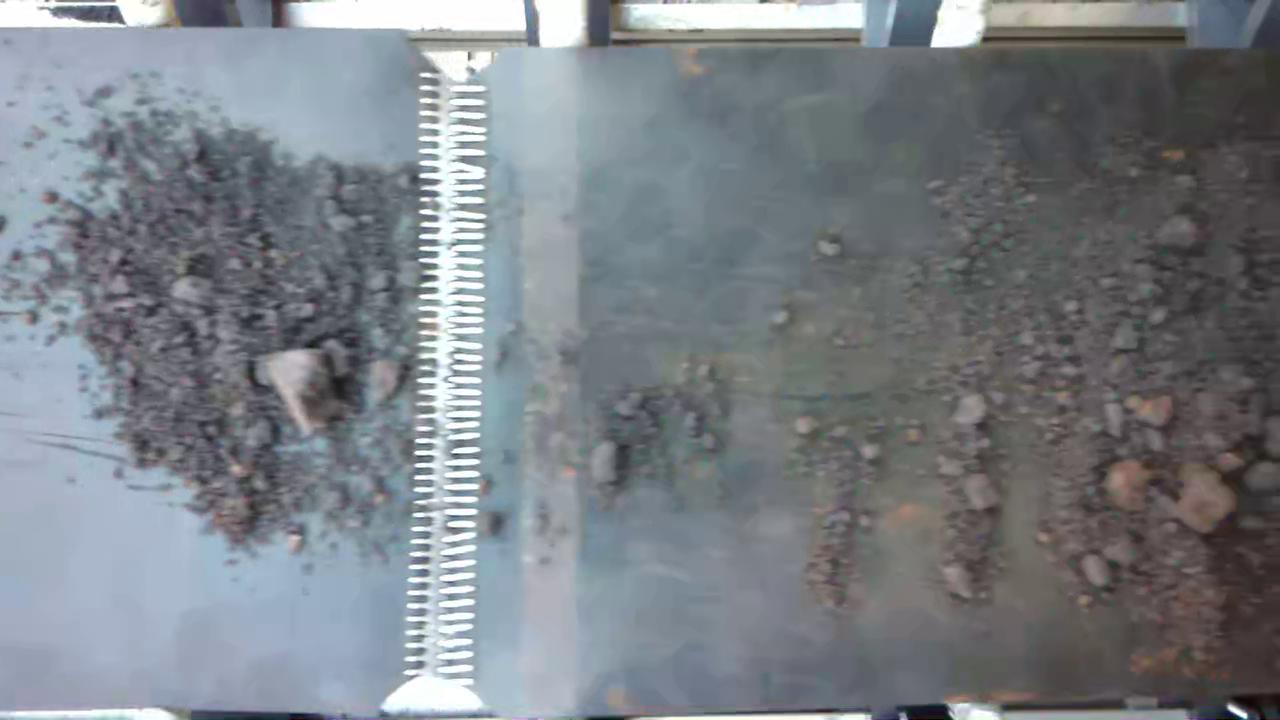conveyor: (10, 63, 1279, 682)
